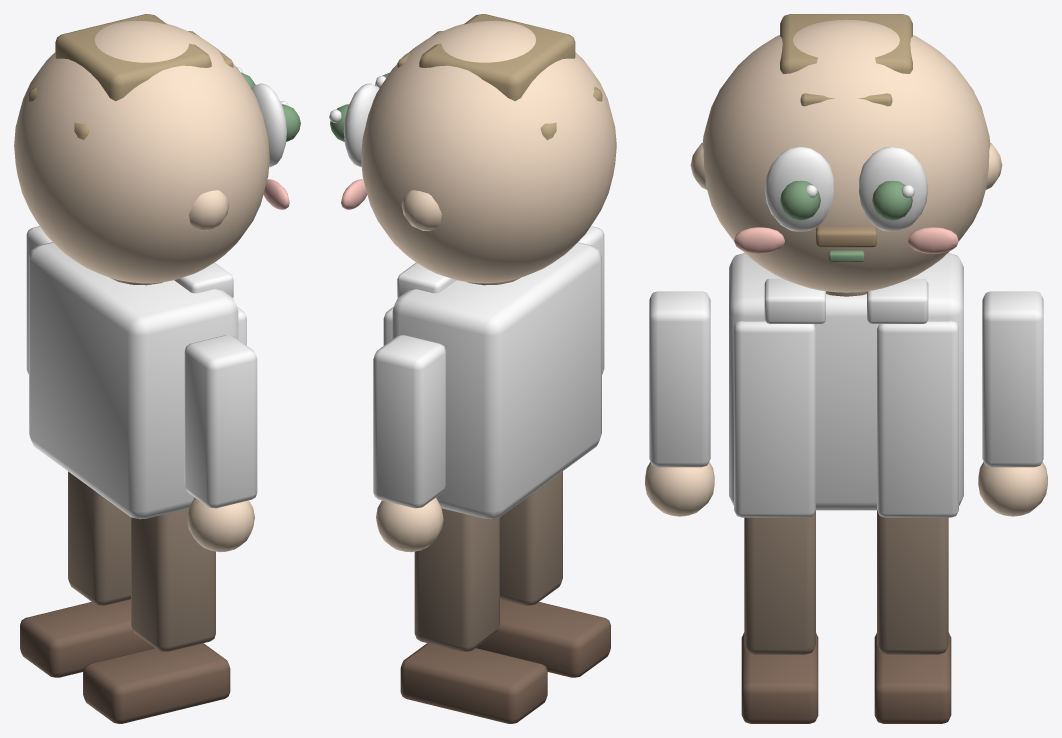
Rendered from professor_oak.glb.
3 views of the same model, side by side, from view 1: azimuth 30°, elevation 25°; view 2: azimuth 150°, elevation 25°; view 3: azimuth 270°, elevation 25° (orthographic). The views are drawn at different scales.
Visible parts, largest first — view 1: Head, Coat, Arm_L, Leg_L, Shoe_L, Shoe_R, Leg_R, Hair_Top, Hand_L, EyeWhite_L, Ear_L, Collar_L (+2 smaller); view 2: Head, Coat, Arm_R, Leg_R, Shoe_R, Shoe_L, Leg_L, Hair_Top, Hand_R, EyeWhite_R, Ear_R, Collar_R (+2 smaller); view 3: Head, Coat, Coat_L, Coat_R, Arm_L, Arm_R, Leg_L, Leg_R, Shoe_L, Shoe_R, EyeWhite_L, EyeWhite_R (+10 smaller).
Boxes of the visible parts, <box> form: Head: <box>14,20,269,283</box>; Coat: <box>29,242,238,519</box>; Arm_L: <box>184,335,257,508</box>; Leg_L: <box>131,508,215,651</box>; Shoe_L: <box>83,643,230,723</box>; Shoe_R: <box>20,599,154,677</box>; Leg_R: <box>68,471,130,605</box>; Hair_Top: <box>55,14,211,101</box>; Hand_L: <box>187,497,254,552</box>; EyeWhite_L: <box>251,83,286,167</box>; Ear_L: <box>189,190,229,231</box>; Collar_L: <box>174,262,233,297</box>; Head: <box>361,20,616,283</box>; Coat: <box>392,242,601,519</box>; Arm_R: <box>373,335,445,508</box>; Leg_R: <box>414,508,499,651</box>; Shoe_R: <box>400,643,547,723</box>; Shoe_L: <box>476,599,610,677</box>; Leg_L: <box>500,471,562,605</box>; Hair_Top: <box>419,14,575,101</box>; Hand_R: <box>376,497,443,552</box>; EyeWhite_R: <box>343,83,379,167</box>; Ear_R: <box>401,190,441,231</box>; Collar_R: <box>397,262,456,297</box>; Head: <box>702,19,990,292</box>; Coat: <box>729,253,963,510</box>; Coat_L: <box>734,321,815,517</box>; Coat_R: <box>877,321,958,517</box>; Arm_L: <box>649,291,710,467</box>; Arm_R: <box>982,291,1043,467</box>; Leg_L: <box>744,510,815,654</box>; Leg_R: <box>877,510,948,654</box>; Shoe_L: <box>741,632,818,723</box>; Shoe_R: <box>874,632,951,723</box>; EyeWhite_L: <box>764,147,833,231</box>; EyeWhite_R: <box>859,147,928,231</box>.
Size of the model in its own units: 0.5765 by 1.46 by 0.7885.
